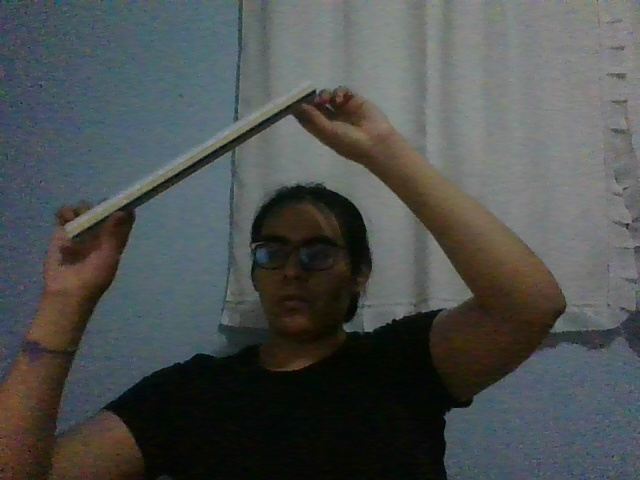regla: (64, 84, 316, 241)
